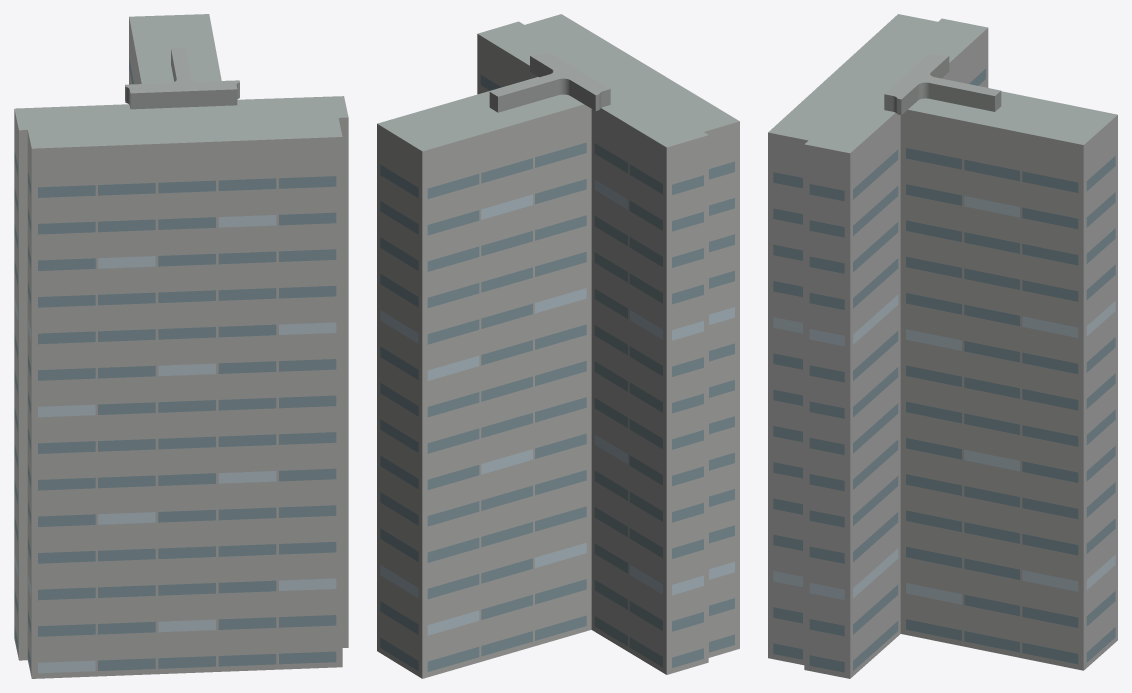
The model's file is fallback-prestige-118.glb.
The picture shows the model from 3 angles, left to right: view 1: azimuth 30°, elevation 25°; view 2: azimuth 150°, elevation 25°; view 3: azimuth 270°, elevation 25°; orthographic projection.
Parts seen in each view (by area): view 1: fallback-prestige-118; view 2: fallback-prestige-118; view 3: fallback-prestige-118.
Part boxes in pixels (x1,y1,x2,y2): fallback-prestige-118: (14, 14, 348, 678); fallback-prestige-118: (377, 14, 739, 678); fallback-prestige-118: (768, 14, 1117, 678).
Size of the model in its own units: 45.25 by 82 by 48.03.
